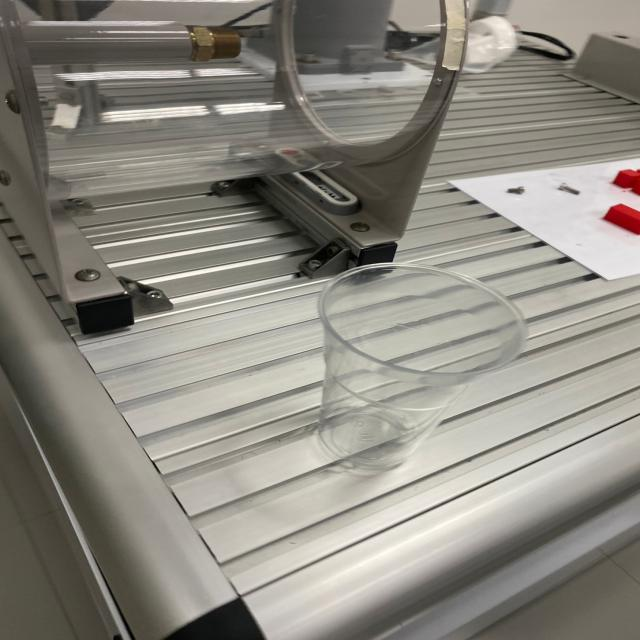glass: (284, 256, 541, 480)
